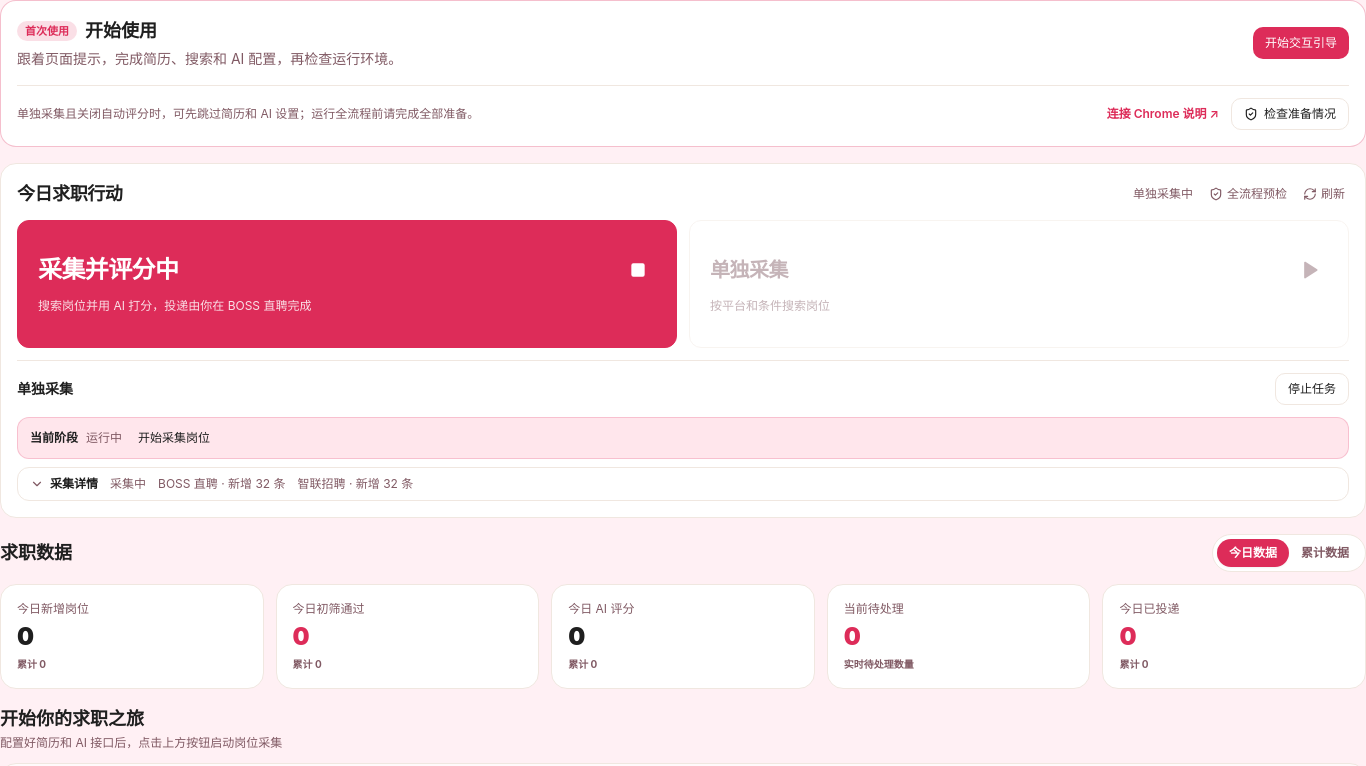
Test: DashboardPage workbench task panel › keeps collection statistics in their proper scope (multiple platforms: true)
Expected: the element named "任务状态摘要" is shown, 30,430 -> 210,445
Expected: the text "BOSS 直聘 · 新增 32 条" is shown 2 times, 158,476 -> 286,492; 298,476 -> 413,492
What coordinates should you click on to do the following:
click the text "采集详情"
I would click on:
 (64, 484)
Its box is 30,476 -> 98,492.
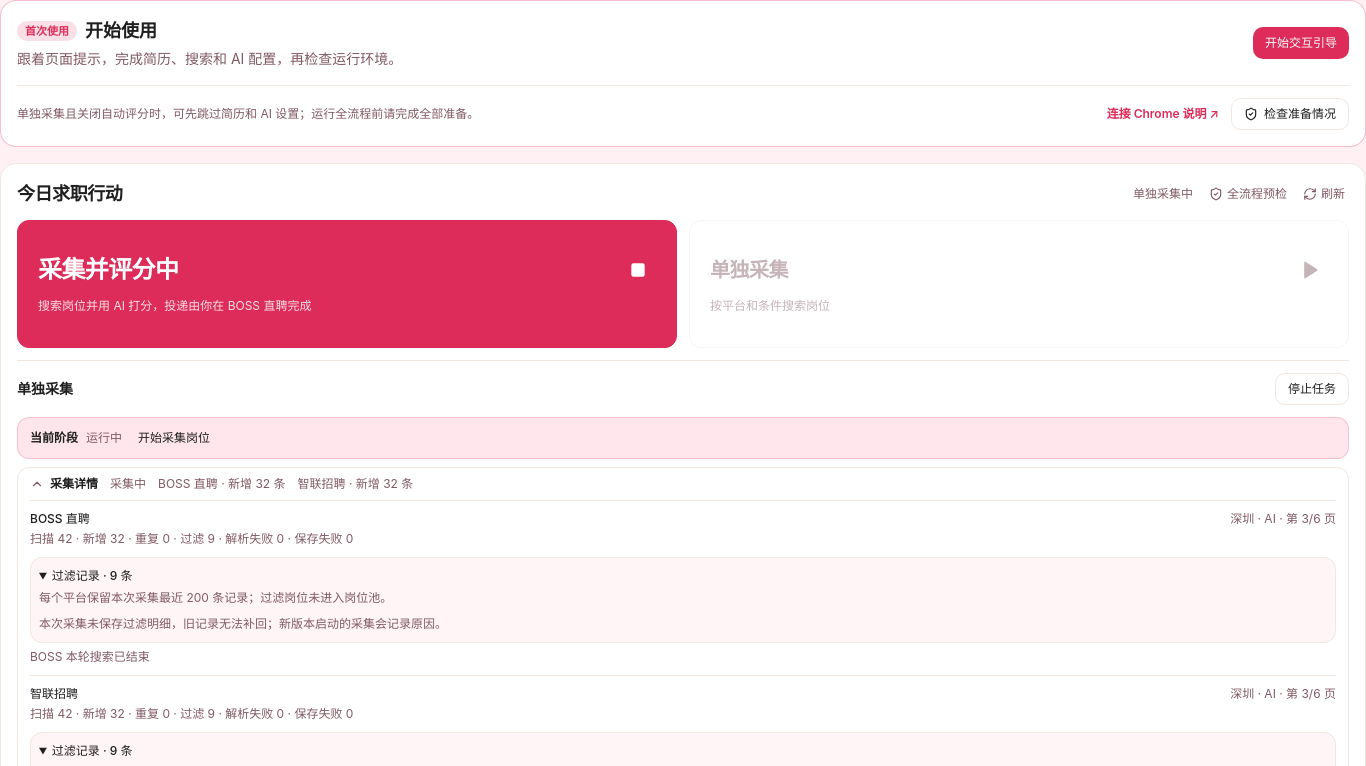
Result: the text "BOSS 本轮搜索已结束" is shown 2 times
Result: the text "扫描 42 · 新增 32 · 重复 0 · 过滤 9 · 解析失败 0 · 保存失败 0" is shown 2 times at 30,531 -> 353,546; 30,706 -> 353,721
